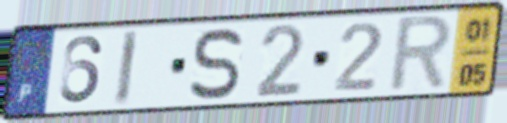2: (251, 22, 307, 101), (332, 19, 385, 93)
6: (58, 33, 106, 107)
I: (112, 28, 142, 109)
R: (384, 12, 456, 96)
S: (186, 25, 246, 103)
